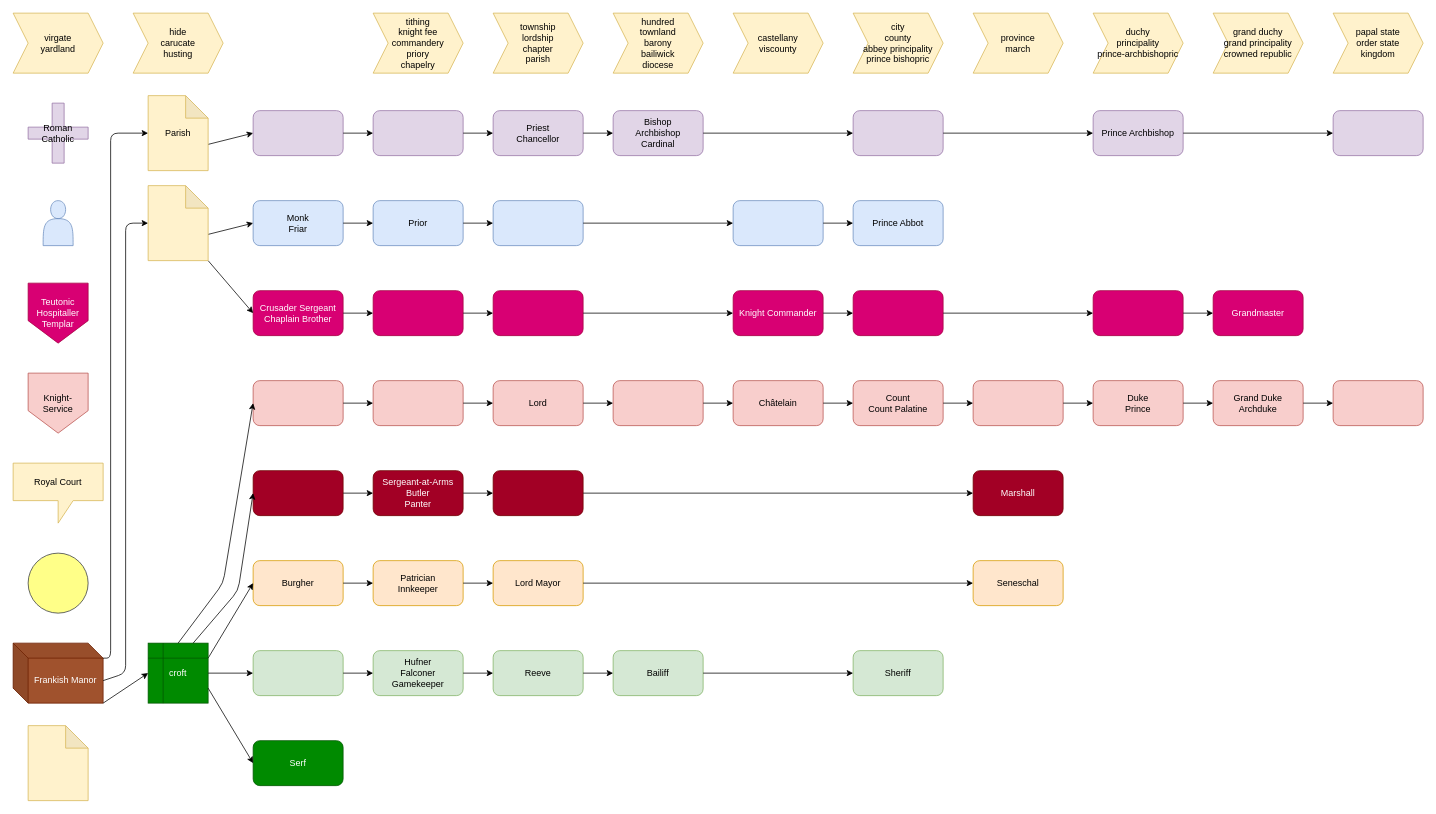
Some shapes in this 1436 by 814 pixel diagram are drawn without their labels. Here are the shapes that lost their labels. From the top down, the box of each, then its label:
(252, 110, 343, 156): Vicar
(372, 110, 463, 156): Chaplain
(852, 110, 943, 156): Prince Bishop
(1332, 110, 1423, 156): Pope
(42, 200, 73, 246): Augustinian Benedictine Carmelite Cistercian Franciscan
(147, 185, 208, 261): Cloister
(492, 200, 583, 246): Provost Abbot
(732, 200, 823, 246): Prince Provost
(372, 290, 463, 336): Crusader Knight Treasurer Draper
(492, 290, 583, 336): House Commander
(852, 290, 943, 336): Land Commander
(1092, 290, 1183, 336): Master Commander
(252, 380, 343, 426): Squire
(372, 380, 463, 426): Knight
(612, 380, 703, 426): Baron
(972, 380, 1063, 426): Marques
(1332, 380, 1423, 426): King
(252, 470, 343, 516): Knave Valet
(492, 470, 583, 516): Constable Chamberlain
(27, 552, 88, 613): Livre
(252, 650, 343, 696): Cottar
(27, 725, 88, 801): Serfdom
